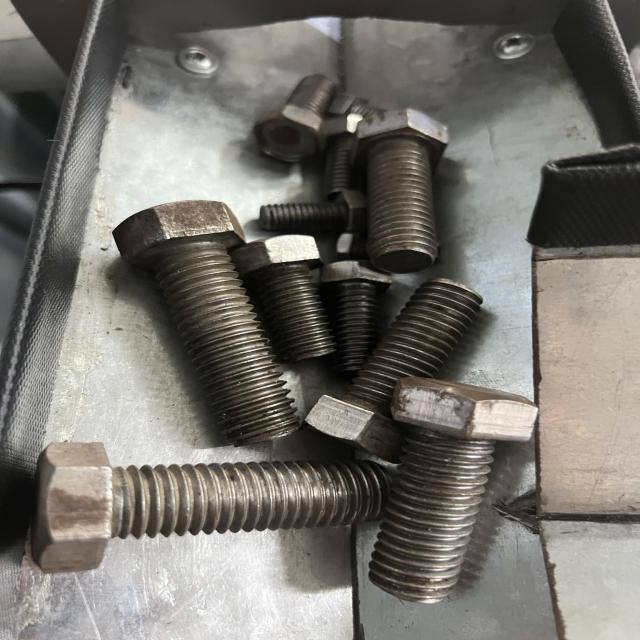bolt: (32, 442, 392, 574), (114, 200, 304, 442), (370, 377, 538, 604), (232, 234, 333, 360)
